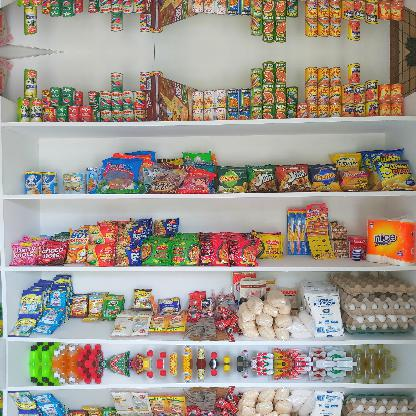Koko-Krunch: (146, 74, 198, 120), (146, 0, 199, 31)
